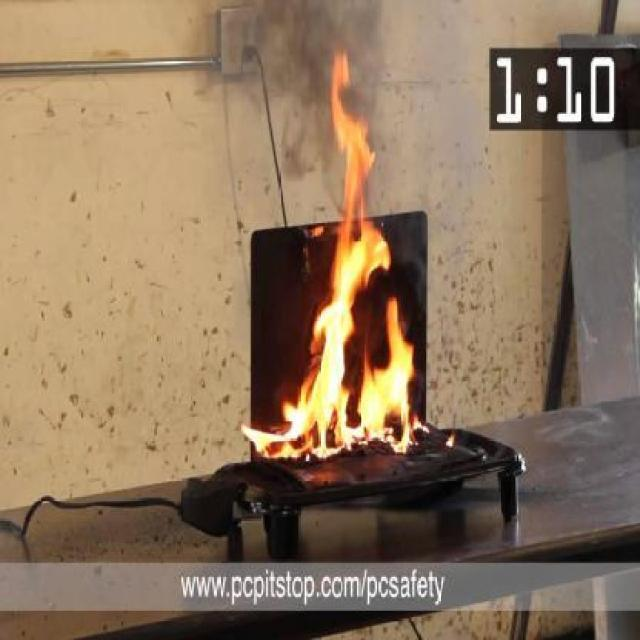Fire: (253, 90, 460, 478)
Smoke: (224, 0, 464, 248)
